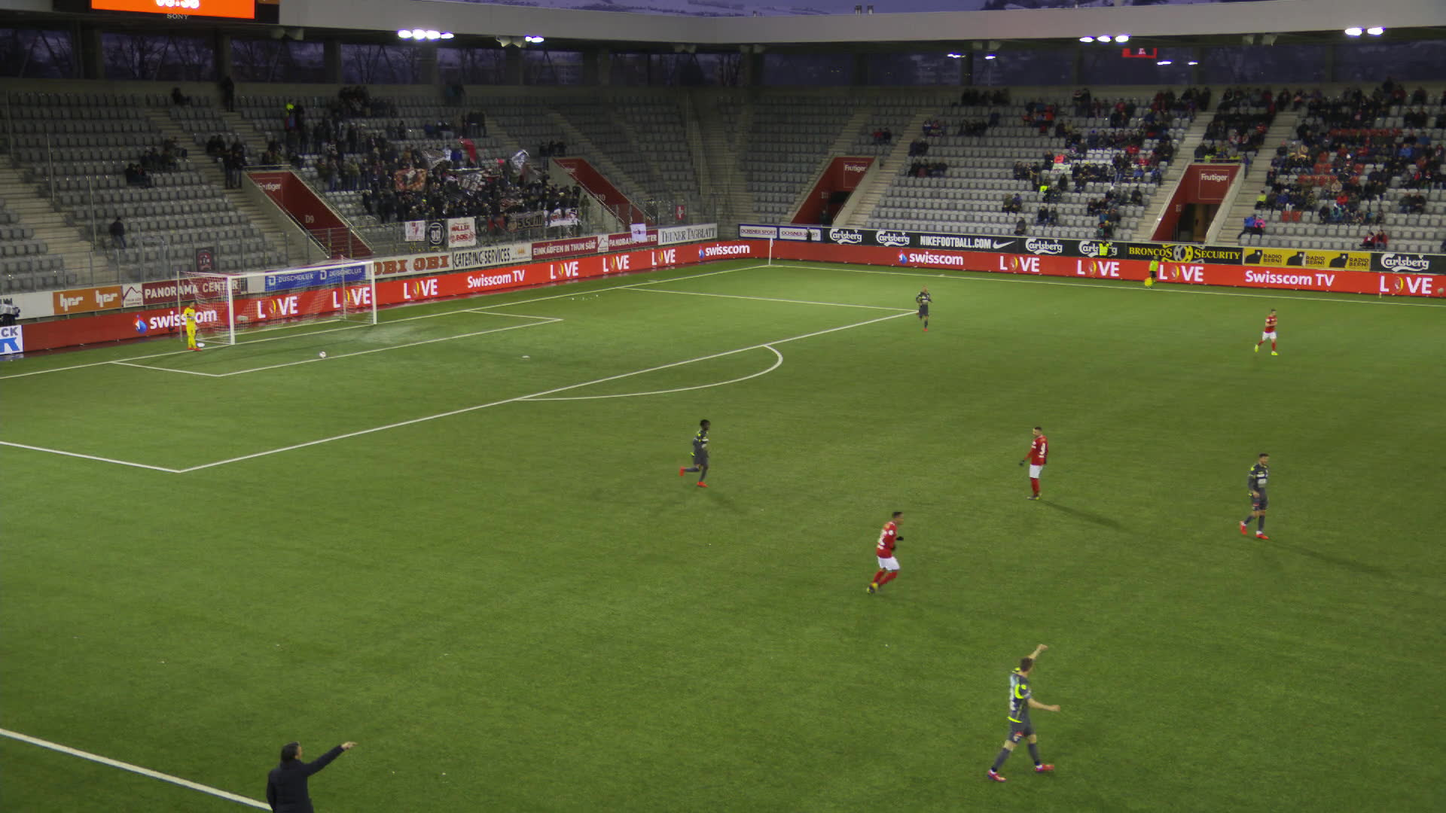ball: (319, 352, 326, 358)
player: (987, 644, 1060, 784), (862, 507, 903, 598), (1234, 452, 1271, 540), (1014, 425, 1050, 501), (674, 417, 709, 488), (1252, 309, 1279, 356), (915, 285, 934, 332), (183, 301, 200, 351)
referee: (1143, 255, 1158, 289)
